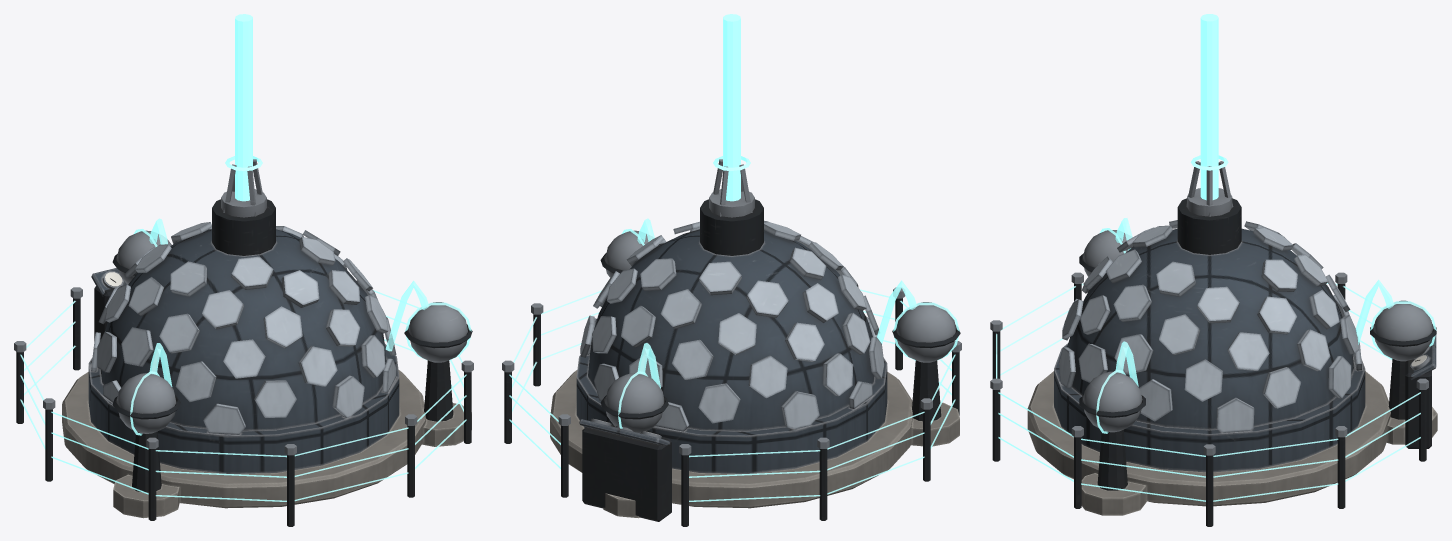
The model's file is estacion_escudos.fbx.
The picture shows the model from 3 angles, left to right: view 1: azimuth 30°, elevation 25°; view 2: azimuth 150°, elevation 25°; view 3: azimuth 270°, elevation 25°; orthographic projection.
Visible parts, largest first — view 1: estacion_escudos, estacion_escudos_energia_neon, estacion_escudos_rayo_neon; view 2: estacion_escudos, estacion_escudos_energia_neon, estacion_escudos_rayo_neon; view 3: estacion_escudos, estacion_escudos_energia_neon, estacion_escudos_rayo_neon.
Part boxes in pixels (left/top/right/bottom): estacion_escudos: left=14, top=159, right=473, bottom=526; estacion_escudos_energia_neon: left=20, top=218, right=471, bottom=501; estacion_escudos_rayo_neon: left=225, top=14, right=262, bottom=201; estacion_escudos: left=502, top=159, right=961, bottom=526; estacion_escudos_energia_neon: left=509, top=218, right=959, bottom=501; estacion_escudos_rayo_neon: left=713, top=14, right=750, bottom=201; estacion_escudos: left=990, top=161, right=1437, bottom=526; estacion_escudos_energia_neon: left=996, top=218, right=1436, bottom=501; estacion_escudos_rayo_neon: left=1190, top=14, right=1228, bottom=200.
Bounding box in the file's own units: 6.04 × 6 × 5.89.
3 materials, 1 textured.
